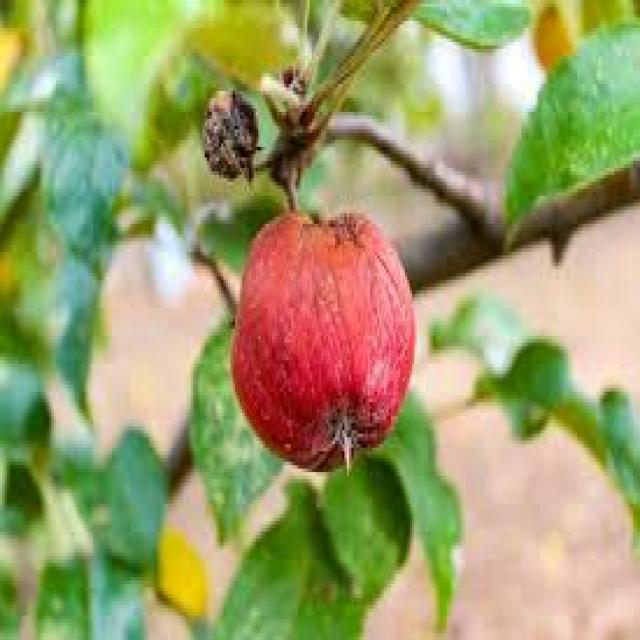Rotten Apple: (234, 217, 412, 475), (203, 91, 261, 186)
